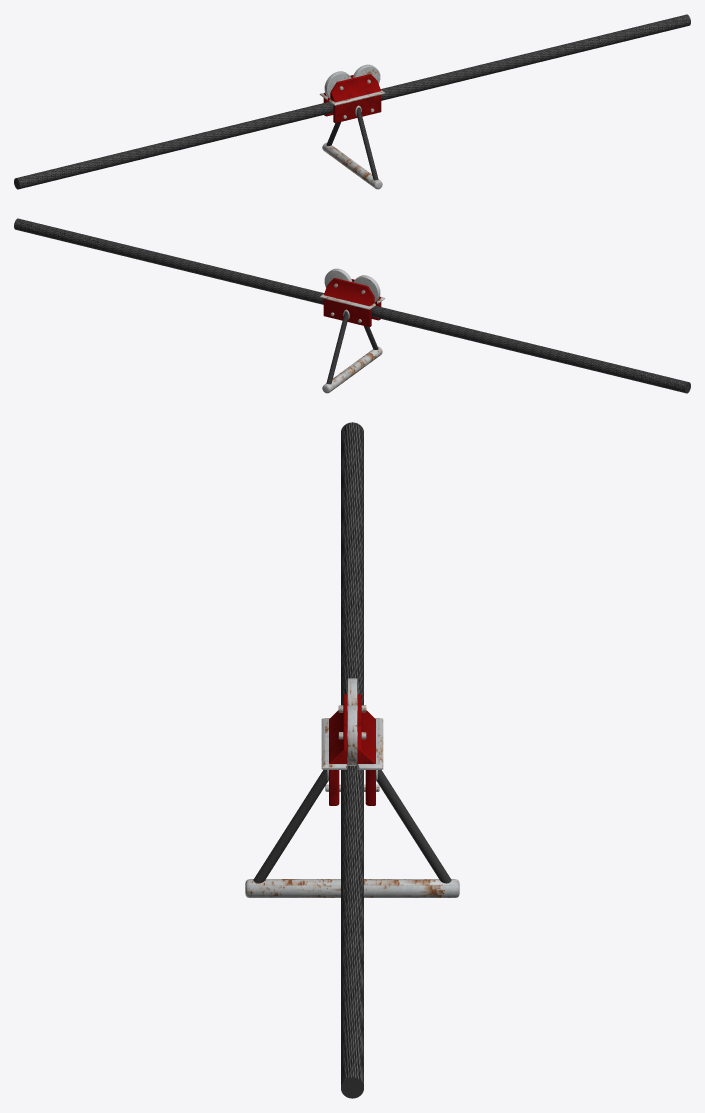
Rendered from зиплайн (2).fbx.
3 views of the same model, one above another, from view 1: azimuth 30°, elevation 25°; view 2: azimuth 150°, elevation 25°; view 3: azimuth 270°, elevation 25° (orthographic). The views are drawn at different scales.
Visible parts, largest first — view 1: Cylinder, Cube.001; view 2: Cylinder, Cube.001; view 3: Cylinder, Cube.001.
Part boxes in pixels (<box>): Cylinder: <box>14,14,690,189</box>; Cube.001: <box>319,64,385,189</box>; Cylinder: <box>14,218,690,393</box>; Cube.001: <box>319,268,385,393</box>; Cylinder: <box>341,422,363,1098</box>; Cube.001: <box>245,678,459,897</box>.
Bounding box in the file's own units: 1000 × 144 × 138.
3 materials, 3 textured.
